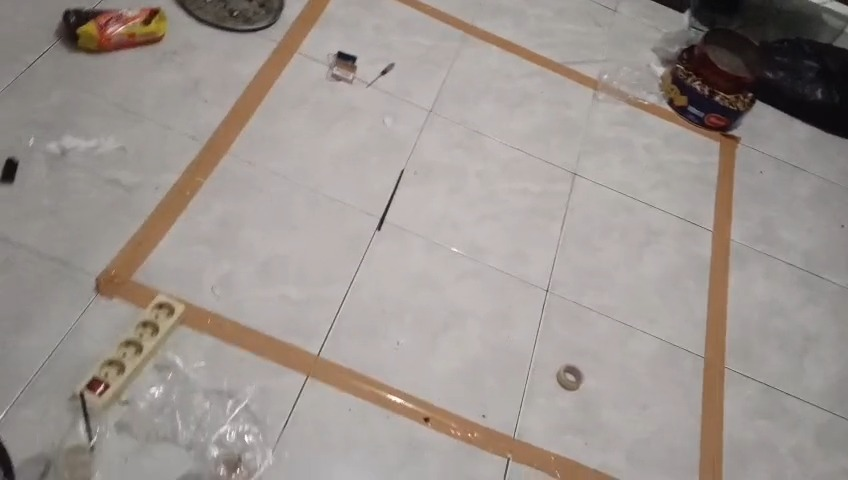floor marking: (186, 305, 611, 479), (97, 0, 328, 306), (629, 100, 738, 479), (398, 0, 598, 89)
